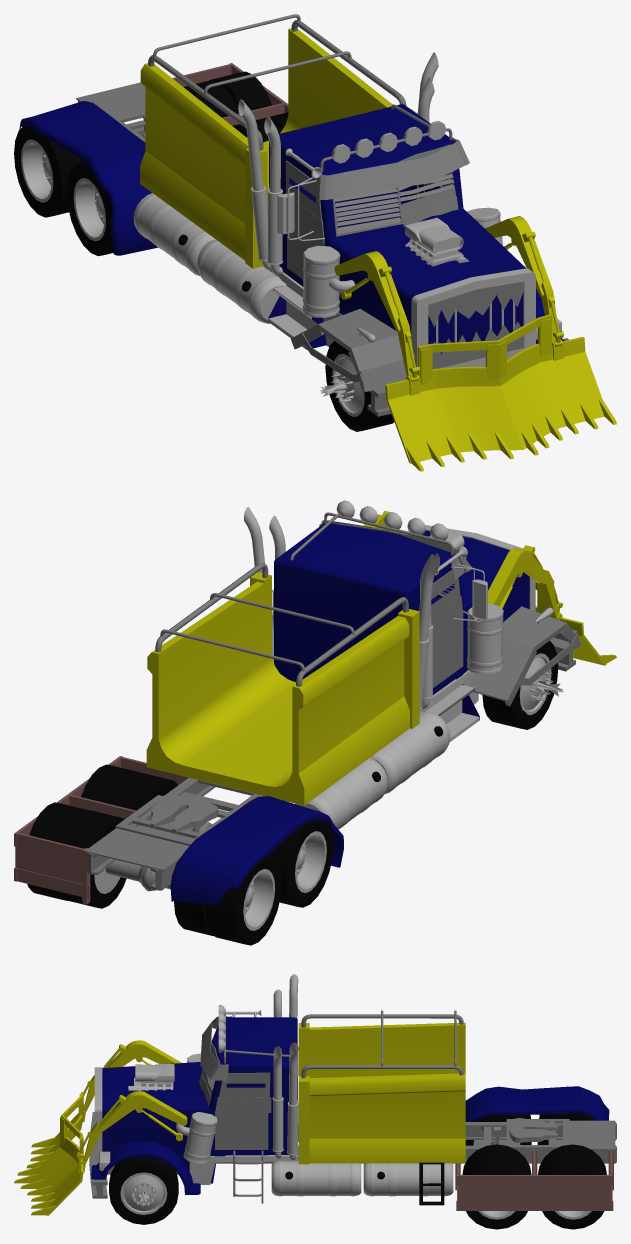
Rendered from Semi Truck.fbx.
3 renders of one model, top to bottom at view 1: azimuth 30°, elevation 25°; view 2: azimuth 150°, elevation 25°; view 3: azimuth 270°, elevation 25°, orthographic. The views are drawn at different scales.
Parts seen in each view (by area): view 1: SemiBaseModel, Passenger_Side_Back_Wheel, Passenger_Side_Middle_Wheel, Passenger_Side_Front_Wheel, Drivers_Side_Back_Wheel; view 2: SemiBaseModel, Passenger_Side_Back_Wheel, Drivers_Side_Back_Wheel, Passenger_Side_Middle_Wheel, Passenger_Side_Front_Wheel, Drivers_Side_Middle_Wheel; view 3: SemiBaseModel, Drivers_Side_Front_Wheel, Drivers_Side_Middle_Wheel, Drivers_Side_Back_Wheel, Passenger_Side_Middle_Wheel, Passenger_Side_Back_Wheel.
Part boxes in pixels (x1,y1,x2,y2): SemiBaseModel: [19, 14, 616, 471]; Passenger_Side_Back_Wheel: [14, 126, 83, 217]; Passenger_Side_Middle_Wheel: [66, 162, 113, 256]; Passenger_Side_Front_Wheel: [320, 341, 394, 431]; Drivers_Side_Back_Wheel: [183, 71, 271, 117]; SemiBaseModel: [14, 500, 616, 905]; Passenger_Side_Back_Wheel: [174, 854, 281, 945]; Drivers_Side_Back_Wheel: [27, 802, 126, 908]; Passenger_Side_Middle_Wheel: [269, 819, 333, 907]; Passenger_Side_Front_Wheel: [482, 640, 563, 729]; Drivers_Side_Middle_Wheel: [81, 764, 178, 821]; SemiBaseModel: [14, 974, 616, 1215]; Drivers_Side_Front_Wheel: [109, 1156, 178, 1224]; Drivers_Side_Middle_Wheel: [462, 1144, 531, 1229]; Drivers_Side_Back_Wheel: [538, 1144, 606, 1229]; Passenger_Side_Middle_Wheel: [465, 1114, 531, 1145]; Passenger_Side_Back_Wheel: [537, 1112, 595, 1144].
Size of the model in its own units: 4.67 by 4.63 by 13.78.
